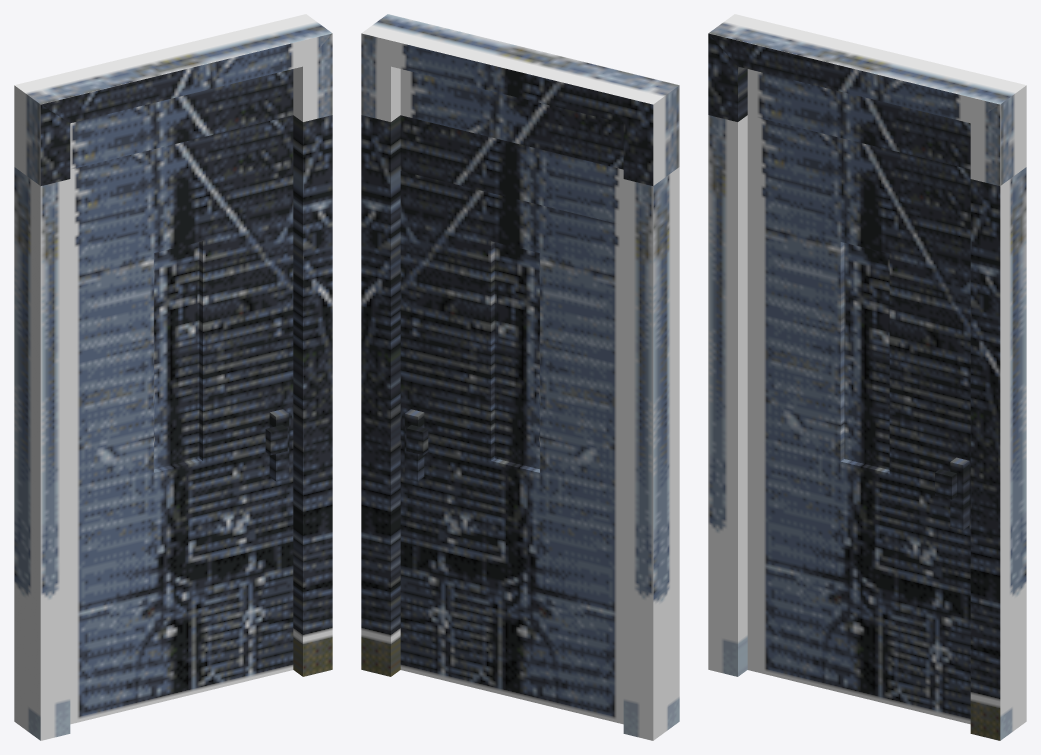
The model's file is FrontDoor.fbx.
The picture shows the model from 3 angles, left to right: view 1: azimuth 30°, elevation 25°; view 2: azimuth 150°, elevation 25°; view 3: azimuth 330°, elevation 25°; orthographic projection.
Visible parts, largest first — view 1: Cube.663, Cube.662; view 2: Cube.663, Cube.662; view 3: Cube.663, Cube.662.
Part boxes in pixels (x1,y1,x2,y2): Cube.663: (70,171,293,724); Cube.662: (14,14,332,740); Cube.663: (400,171,623,724); Cube.662: (361,14,679,740); Cube.663: (747,171,970,724); Cube.662: (708,14,1026,740).
Bounding box in the file's own units: 128 × 266 × 22.43.
